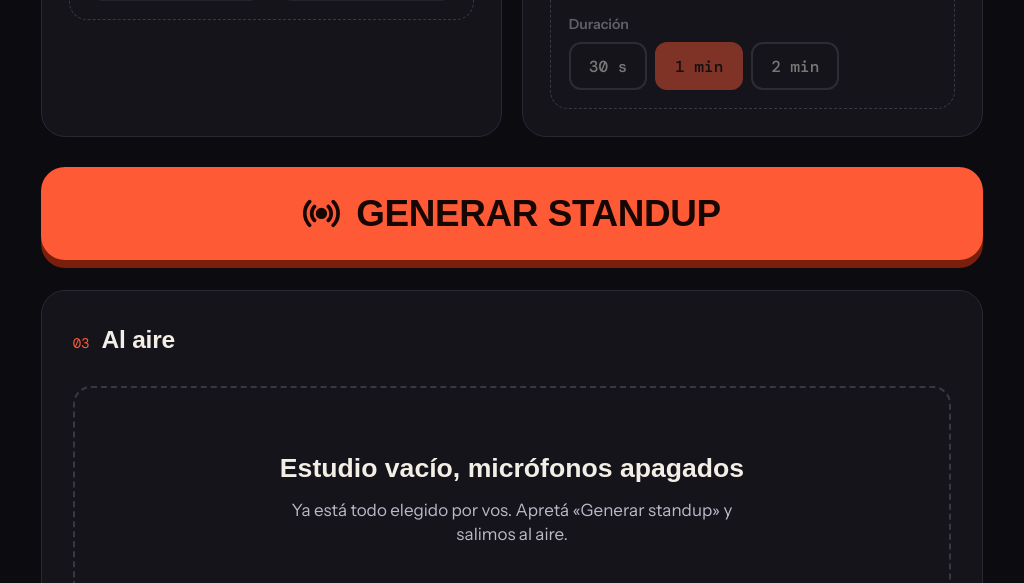
App › sin audio muestra el aviso y el guion igual
(page scrolled)
Click the button "Generar standup": (512, 214) [41,168,983,260]
(page scrolled)
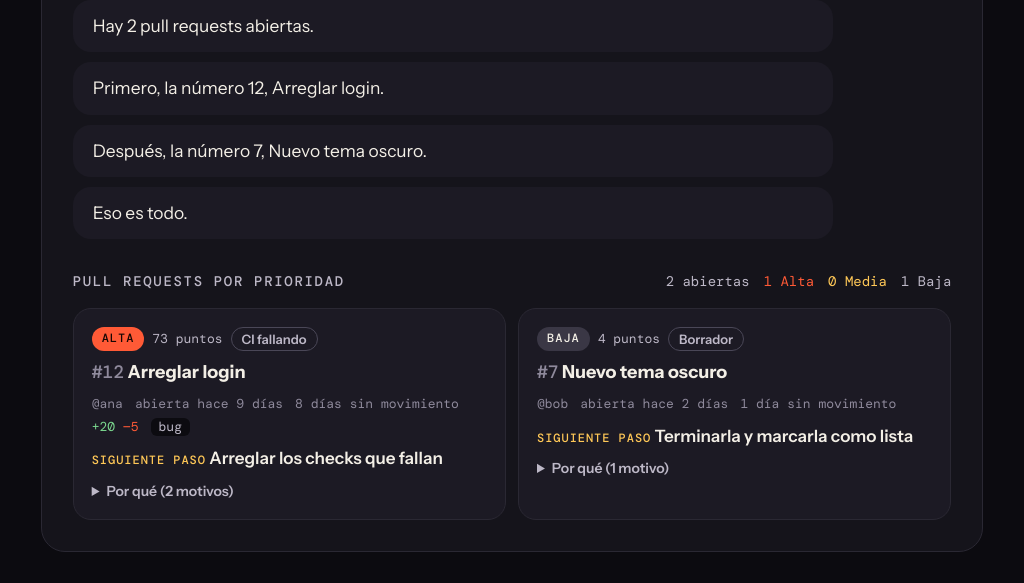
Expected: the list item "Eso es todo." is shown, [73,187,833,239]
